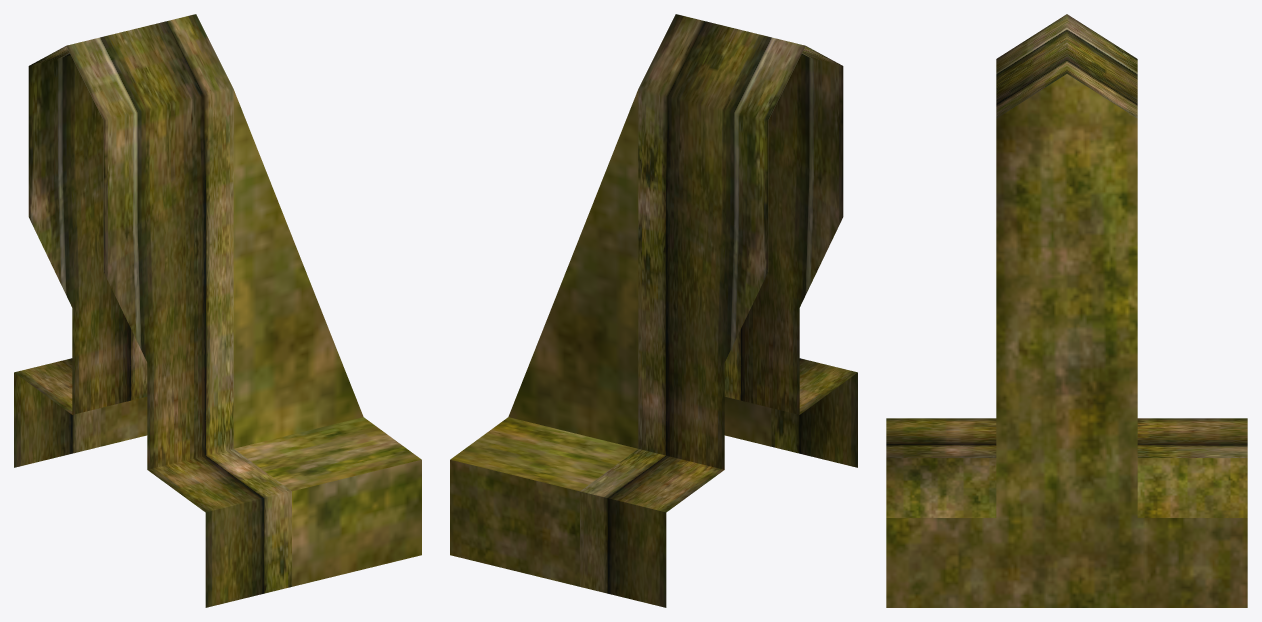
The model's file is OVERHILL_A_01_OBJECT66.fbx.
The picture shows the model from 3 angles, left to right: view 1: azimuth 30°, elevation 25°; view 2: azimuth 150°, elevation 25°; view 3: azimuth 270°, elevation 25°; orthographic projection. The views are drawn at different scales.
Parts seen in each view (by area): view 1: OVERHILL_A_01_OBJECT66; view 2: OVERHILL_A_01_OBJECT66; view 3: OVERHILL_A_01_OBJECT66.
Boxes of the visible parts, bbox=[...] form: OVERHILL_A_01_OBJECT66: bbox=[14, 14, 421, 607]; OVERHILL_A_01_OBJECT66: bbox=[450, 14, 857, 607]; OVERHILL_A_01_OBJECT66: bbox=[886, 14, 1247, 607].
Bounding box in the file's own units: 5838 × 10795 × 7447.
2 materials, 2 textured.
